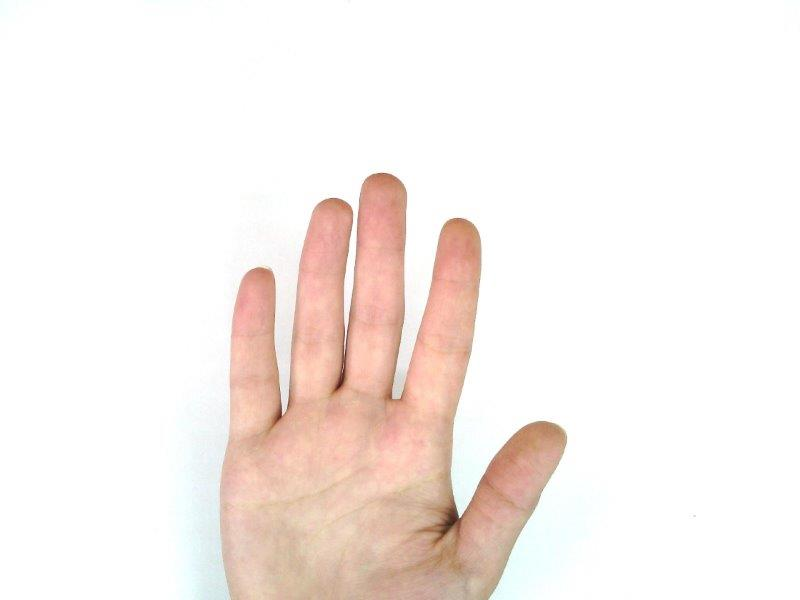hand: (215, 174, 568, 600)
